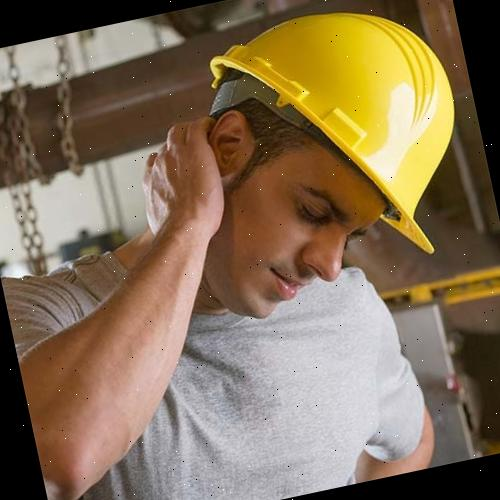helmet: (175, 0, 476, 281)
no_wear: (14, 259, 443, 500)
